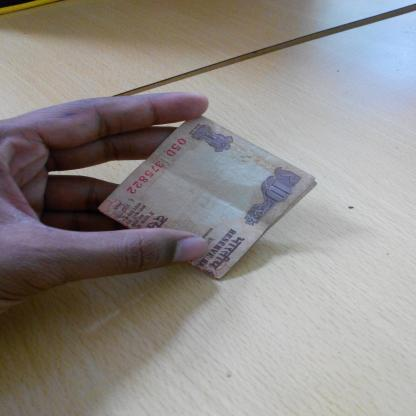Old10Front: (97, 115, 318, 280)
